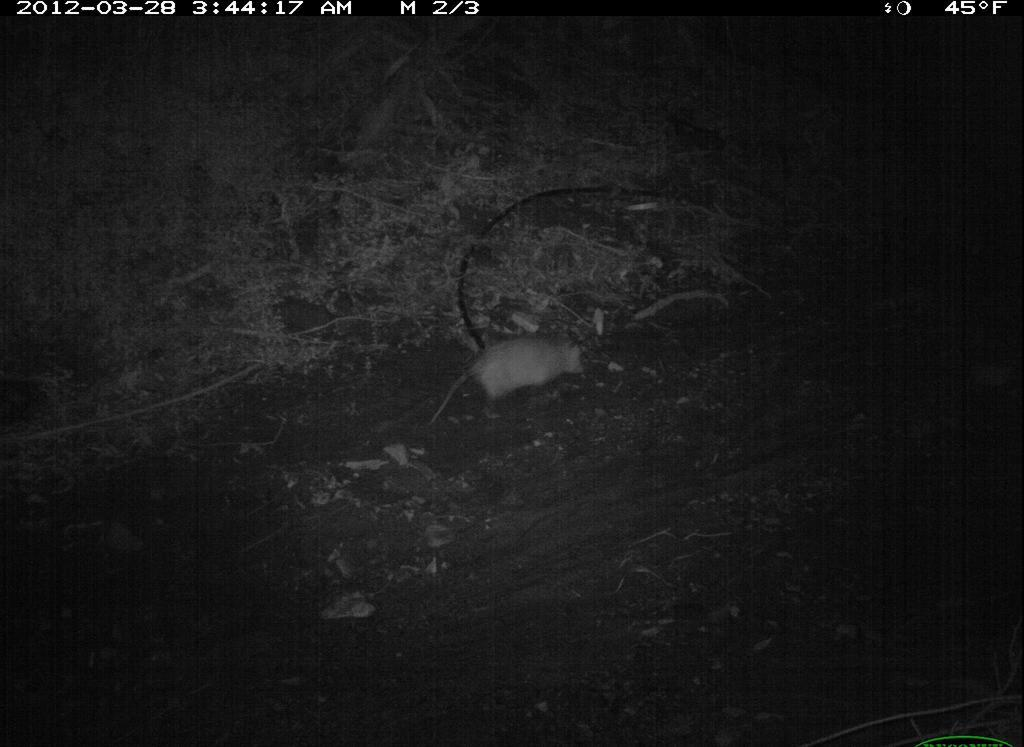opossum: (422, 326, 598, 433)
